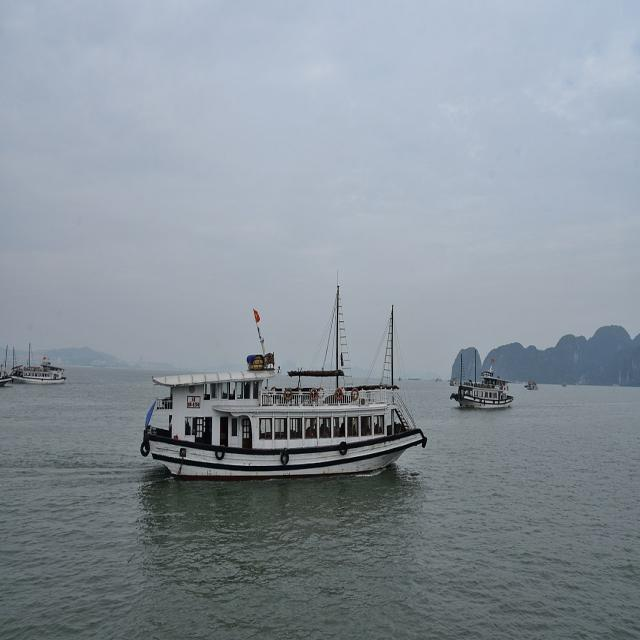passenger ship: (129, 311, 436, 493), (459, 353, 529, 430), (14, 341, 64, 382)
